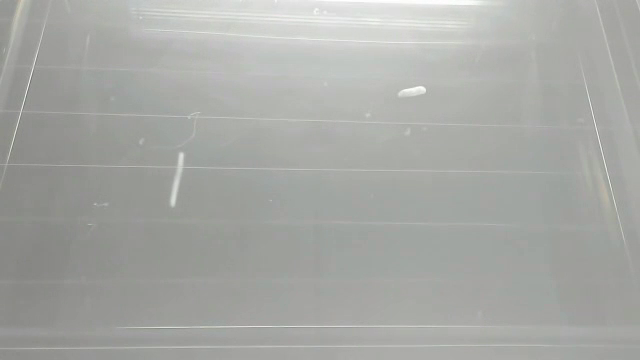alpha: (167, 150, 188, 210), (393, 83, 430, 102)
